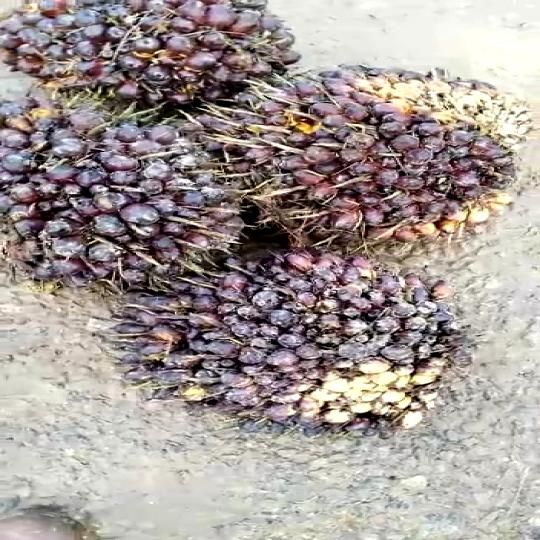kurang masak: (184, 59, 540, 268), (97, 258, 461, 441), (0, 101, 252, 297), (0, 0, 302, 108)
